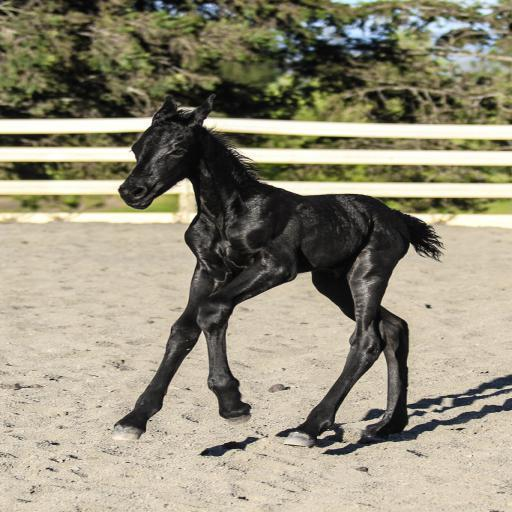horse: (112, 94, 445, 440)
